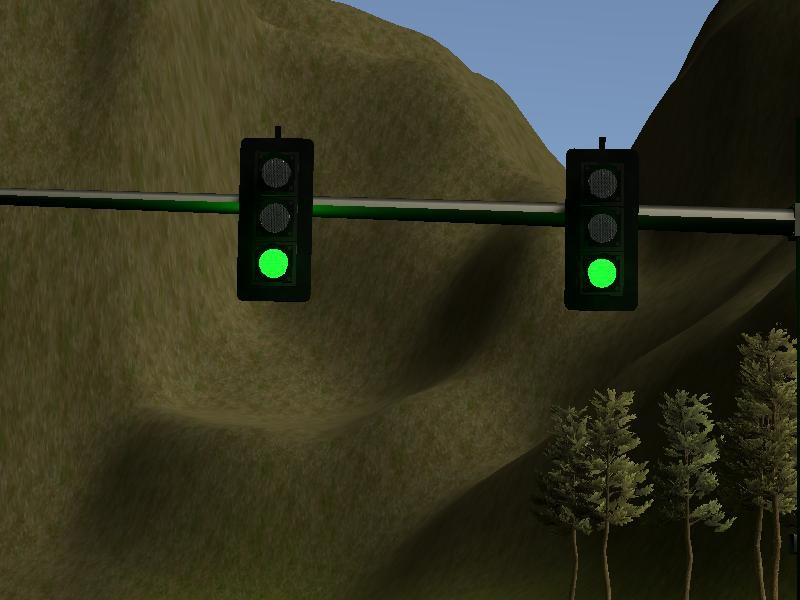Green: (235, 134, 317, 304), (563, 146, 641, 313)
